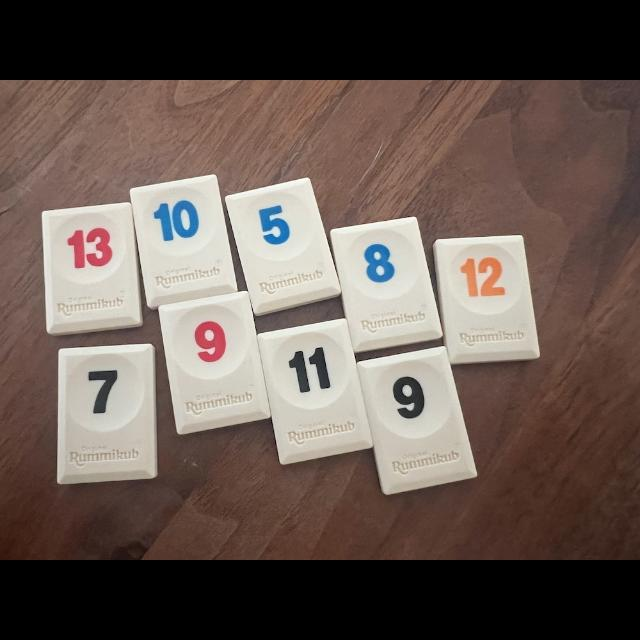black_11: (258, 319, 372, 464)
black_7: (58, 344, 158, 484)
black_9: (358, 346, 476, 494)
blue_10: (130, 175, 238, 309)
blue_5: (225, 178, 340, 315)
blue_8: (330, 218, 442, 352)
orange_12: (434, 235, 540, 364)
red_13: (42, 202, 142, 335)
red_9: (159, 291, 270, 434)
